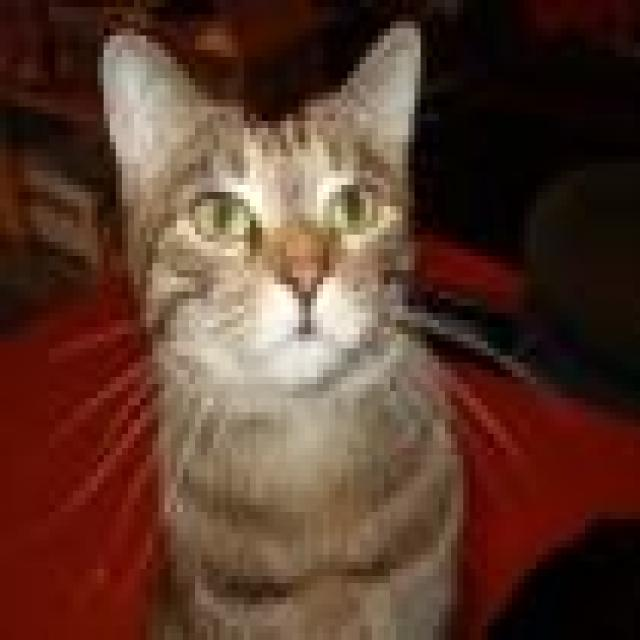Cats: (67, 14, 469, 633)
